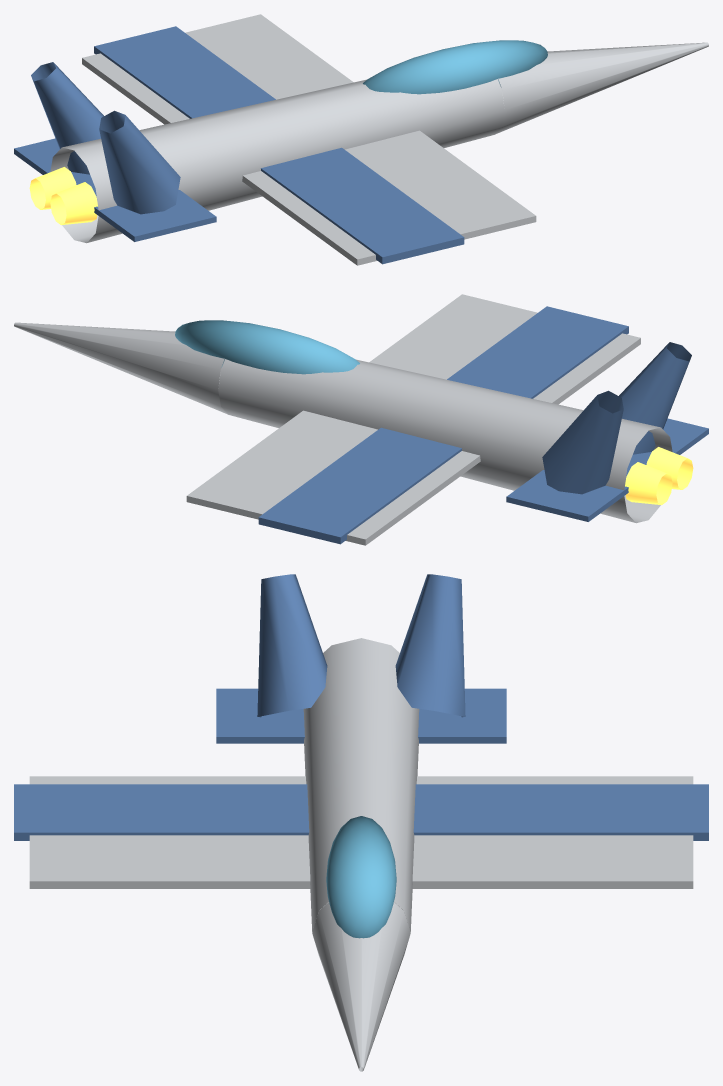
The model's file is supersonic_jet.glb.
3 renders of one model, top to bottom at view 1: azimuth 30°, elevation 25°; view 2: azimuth 150°, elevation 25°; view 3: azimuth 270°, elevation 25°, orthographic. The views are drawn at different scales.
Visible parts, largest first — view 1: RootNode; view 2: RootNode; view 3: RootNode.
Boxes of the visible parts, x1,y1,x2,y2 form: RootNode: (14, 14, 708, 265); RootNode: (14, 294, 708, 545); RootNode: (14, 574, 708, 1071).
Bounding box in the file's own units: 17.7 × 3.8 × 13.4.
